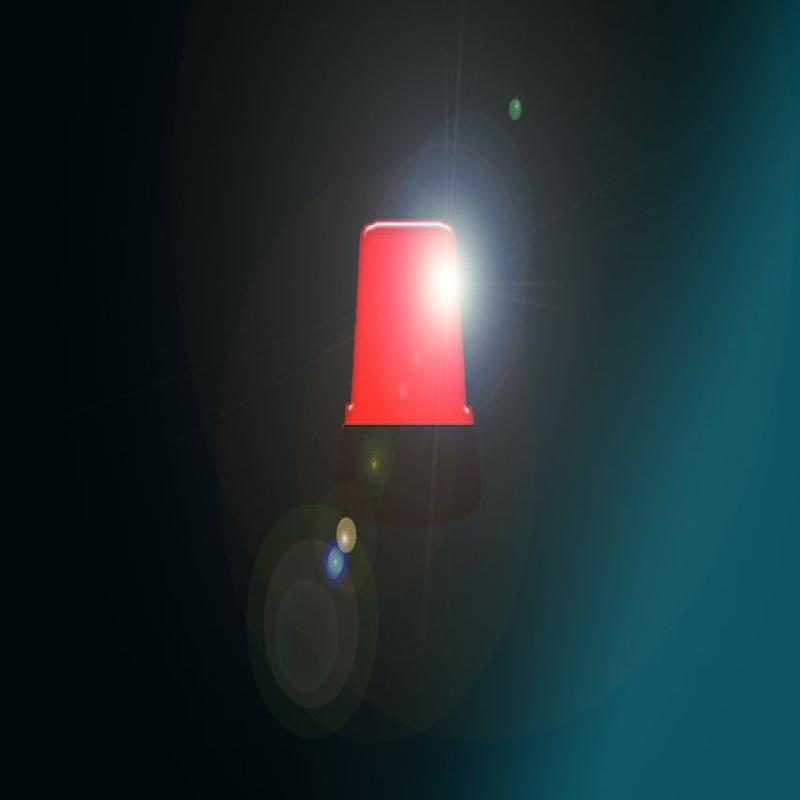AmbulanceSiren: (336, 205, 501, 530)
